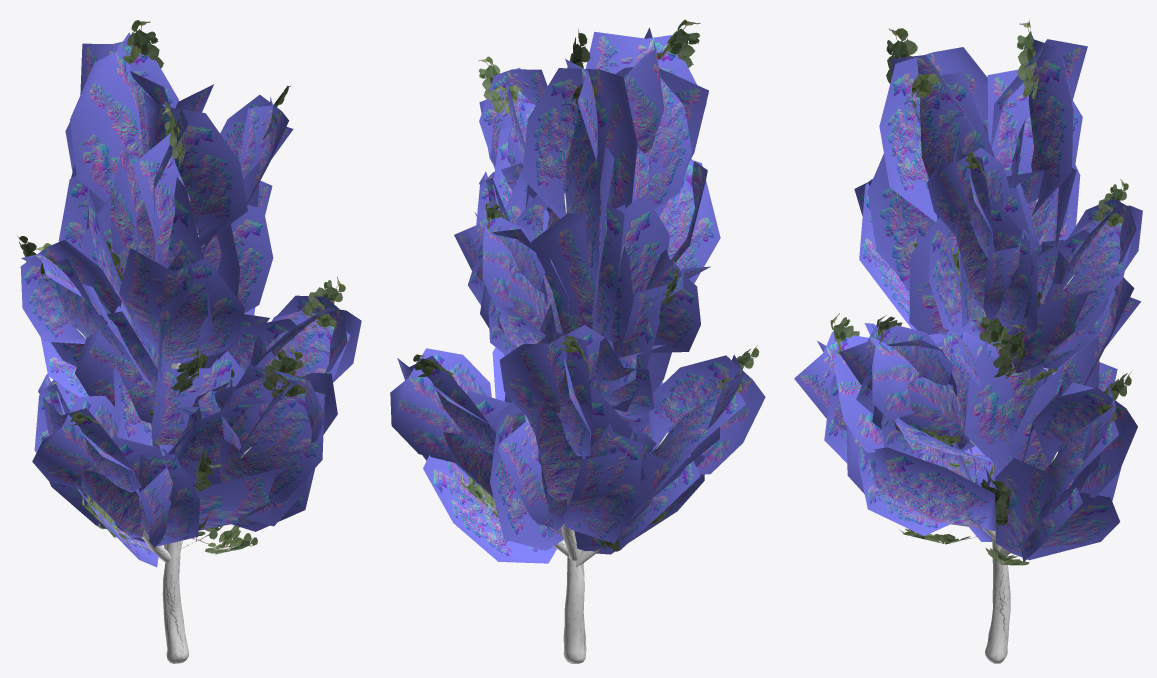
File: PoplarTree00c.fbx
3 views of the same model, side by side, from view 1: azimuth 30°, elevation 25°; view 2: azimuth 150°, elevation 25°; view 3: azimuth 270°, elevation 25° (orthographic). The views are drawn at different scales.
Visible parts, largest first — view 1: PoplarBranchA038, PoplarBranchA006, PoplarBranchB019, PoplarBranchB022, PoplarBranchB007, PoplarBranchB025, PoplarBranchA, PoplarBranchB009, PoplarBranchB018, PoplarBranchB005, PoplarBranchA036, PoplarBranchB026 (+41 smaller); view 2: PoplarBranchB019, PoplarBranchB021, PoplarBranchA037, PoplarBranchB025, PoplarBranchB028, PoplarBranchB001, PoplarBranchB030, PoplarBranchA031, PoplarBranchB002, PoplarBranchA005, PoplarBranchB003, PoplarBranchA040 (+42 smaller); view 3: PoplarBranchB022, PoplarBranchB030, PoplarBranchB006, PoplarBranchB019, PoplarBranchB, PoplarBranchB028, PoplarBranchA031, PoplarBranchA036, PoplarBranchB023, PoplarBranchA021, PoplarBranchB016, PoplarBranchA017 (+45 smaller).
Part boxes in pixels (<box>): PoplarBranchA038: <box>119,248,245,363</box>; PoplarBranchA006: <box>218,351,324,503</box>; PoplarBranchB019: <box>70,32,142,207</box>; PoplarBranchB022: <box>143,92,247,246</box>; PoplarBranchB007: <box>20,239,121,343</box>; PoplarBranchB025: <box>32,395,122,489</box>; PoplarBranchA: <box>151,351,244,448</box>; PoplarBranchB009: <box>75,302,158,423</box>; PoplarBranchB018: <box>203,204,273,313</box>; PoplarBranchB005: <box>168,397,308,526</box>; PoplarBranchA036: <box>132,104,198,268</box>; PoplarBranchB026: <box>81,437,189,537</box>; PoplarBranchB019: <box>522,68,637,218</box>; PoplarBranchB021: <box>531,195,669,334</box>; PoplarBranchA037: <box>585,31,706,208</box>; PoplarBranchB025: <box>649,355,765,474</box>; PoplarBranchB028: <box>390,348,491,463</box>; PoplarBranchB001: <box>499,325,613,423</box>; PoplarBranchB030: <box>423,455,556,563</box>; PoplarBranchA031: <box>565,94,611,285</box>; PoplarBranchB002: <box>532,387,645,501</box>; PoplarBranchA005: <box>567,423,642,543</box>; PoplarBranchB003: <box>490,400,563,550</box>; PoplarBranchA040: <box>659,159,720,283</box>; PoplarBranchB022: <box>879,47,988,221</box>; PoplarBranchB030: <box>995,458,1120,560</box>; PoplarBranchB006: <box>862,447,996,531</box>; PoplarBranchB019: <box>1028,34,1073,215</box>; PoplarBranchB: <box>964,330,1030,471</box>; PoplarBranchB028: <box>1032,387,1137,498</box>; PoplarBranchA031: <box>987,69,1082,240</box>; PoplarBranchA036: <box>920,72,993,178</box>; PoplarBranchB023: <box>867,124,994,291</box>; PoplarBranchA021: <box>1044,219,1132,331</box>; PoplarBranchB016: <box>927,147,1010,235</box>; PoplarBranchA017: <box>839,321,953,389</box>.
Bounding box in the file's own units: 1123 × 2393 × 1188.
